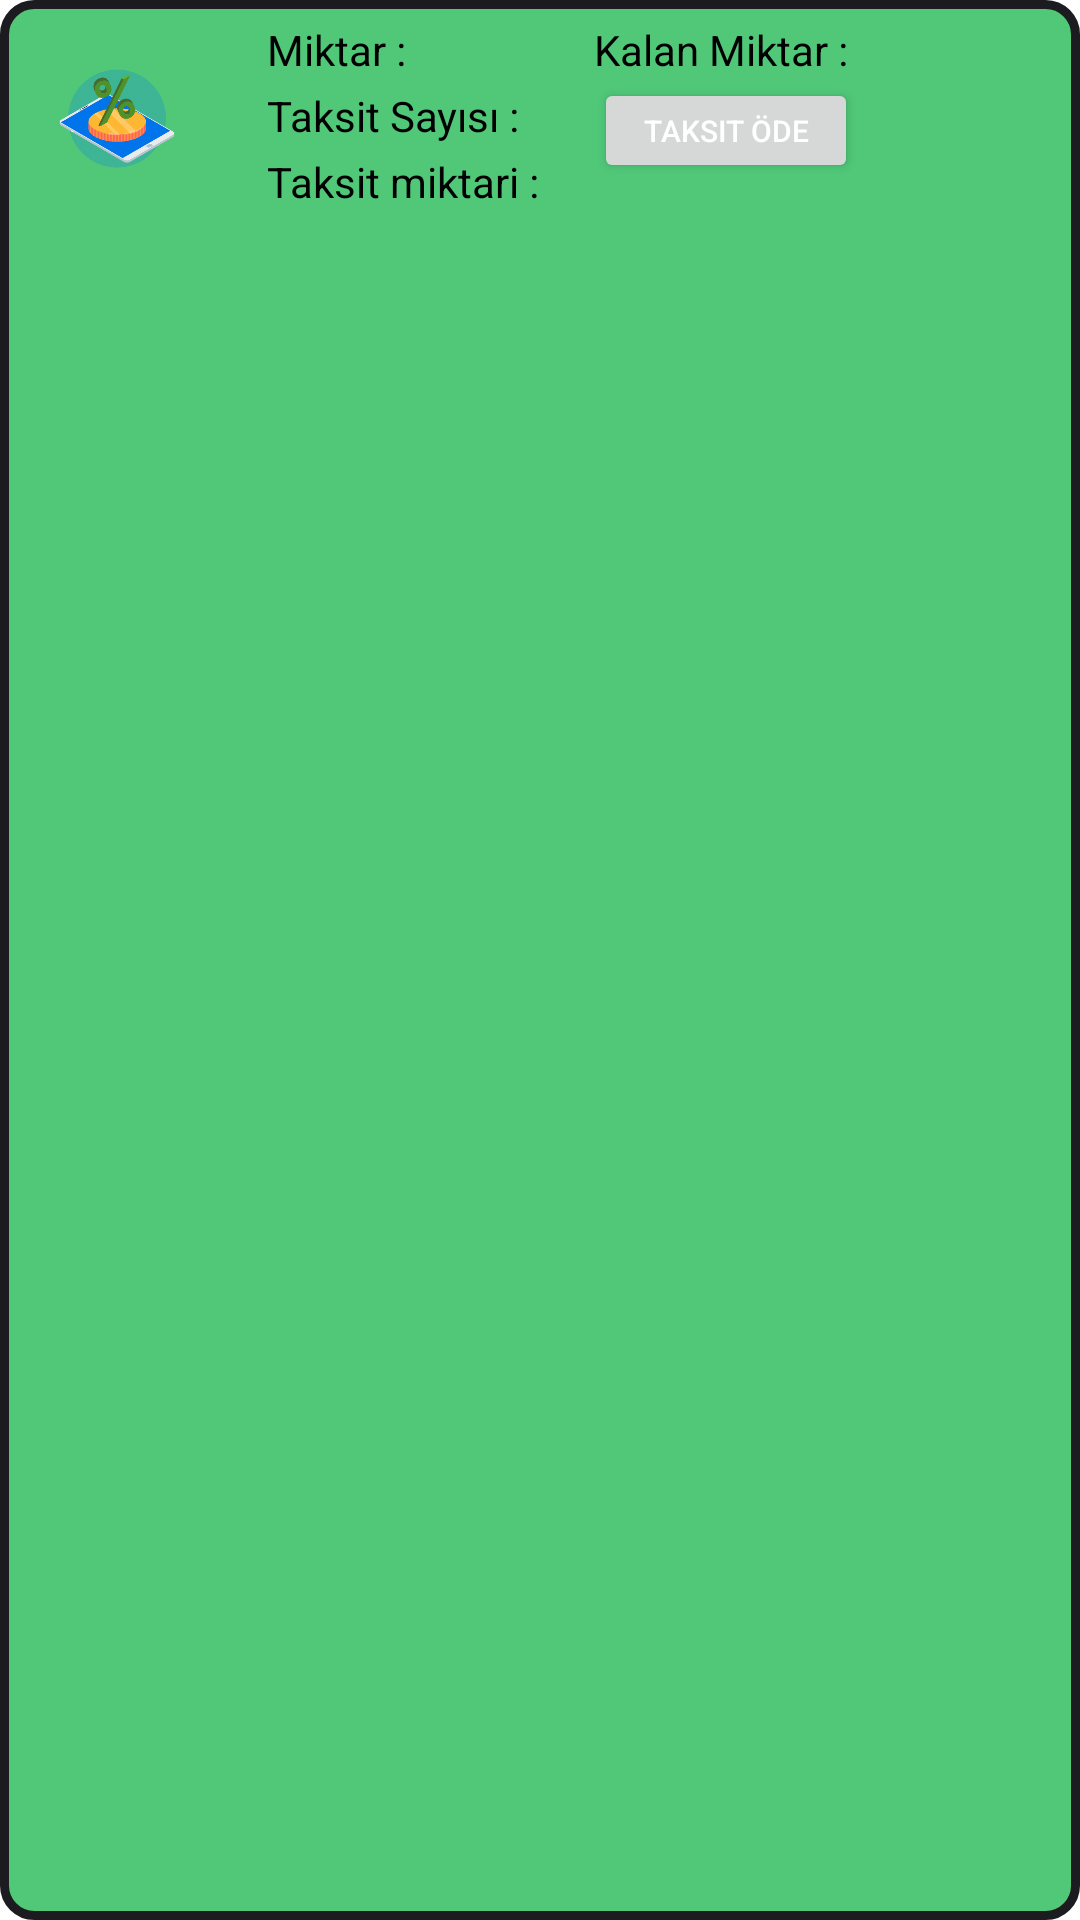

Icons on this 1080px×1920px Android screen, each with the point to tap as point (x, y):
kredi: point (117, 118)
